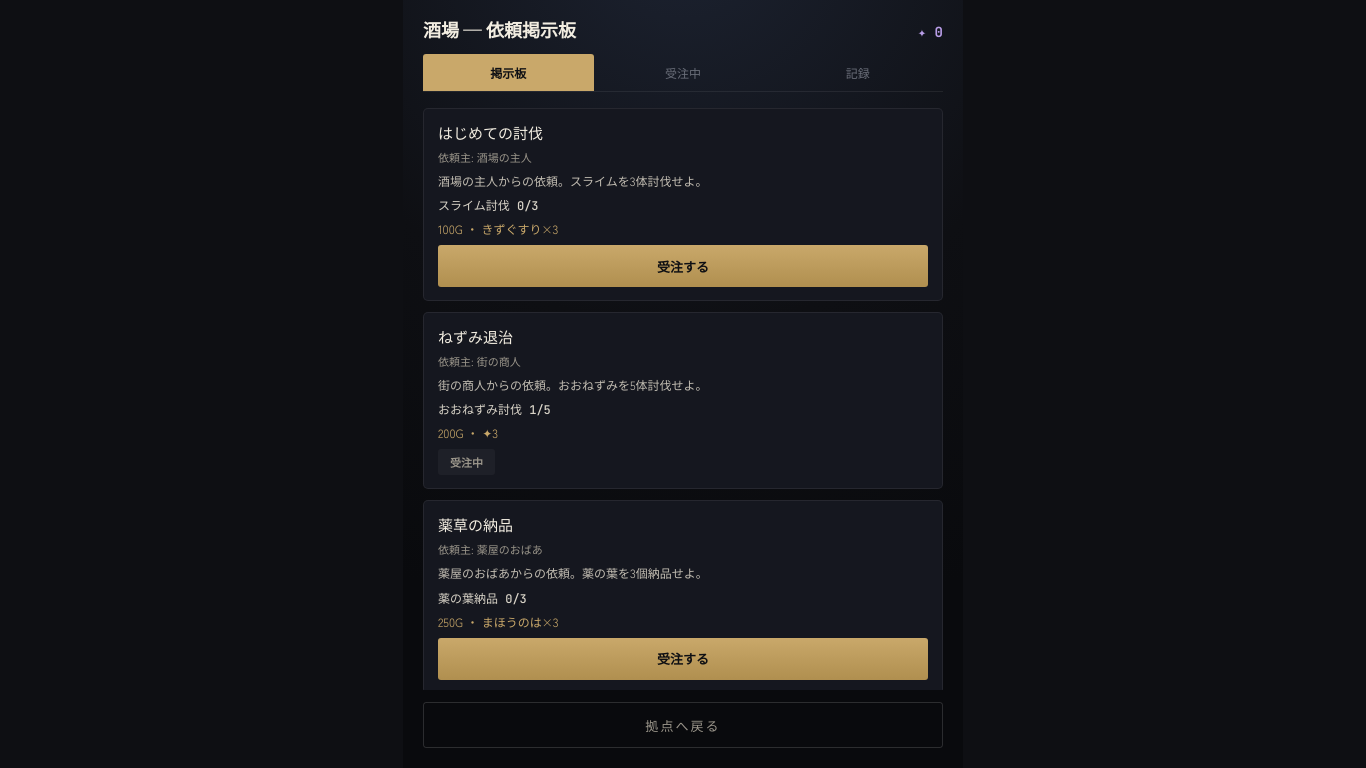
Test: TavernPage › 未達成の依頼は破棄フロー（確認ダイアログ経由）で受注中から消える
Click the button "受注中" at (683, 72), box [598, 54, 768, 91]
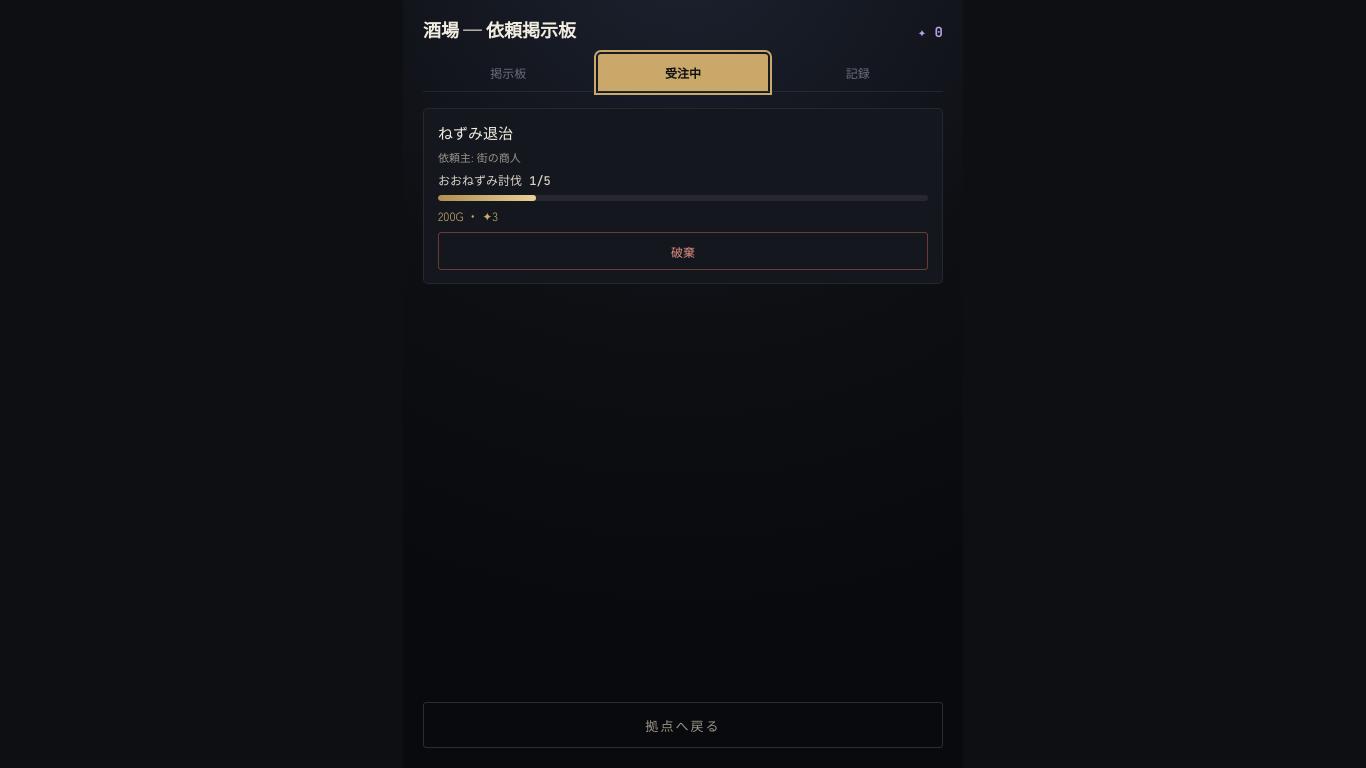
Click the button "破棄" at (683, 251), box [438, 232, 928, 270]
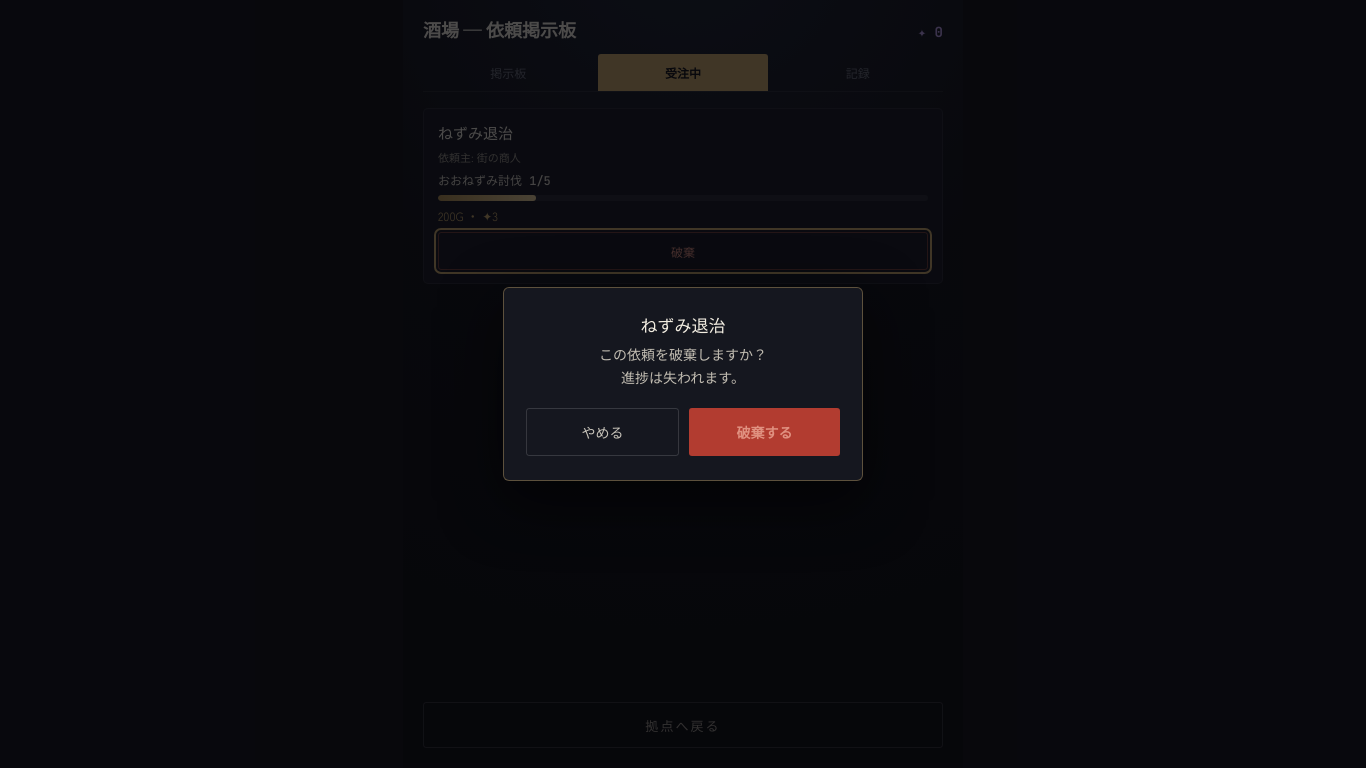
Expected: the dialog named "依頼の破棄確認" is shown, [503, 287, 863, 481]
Click the button "やめる" at (602, 432), box [526, 408, 679, 456]
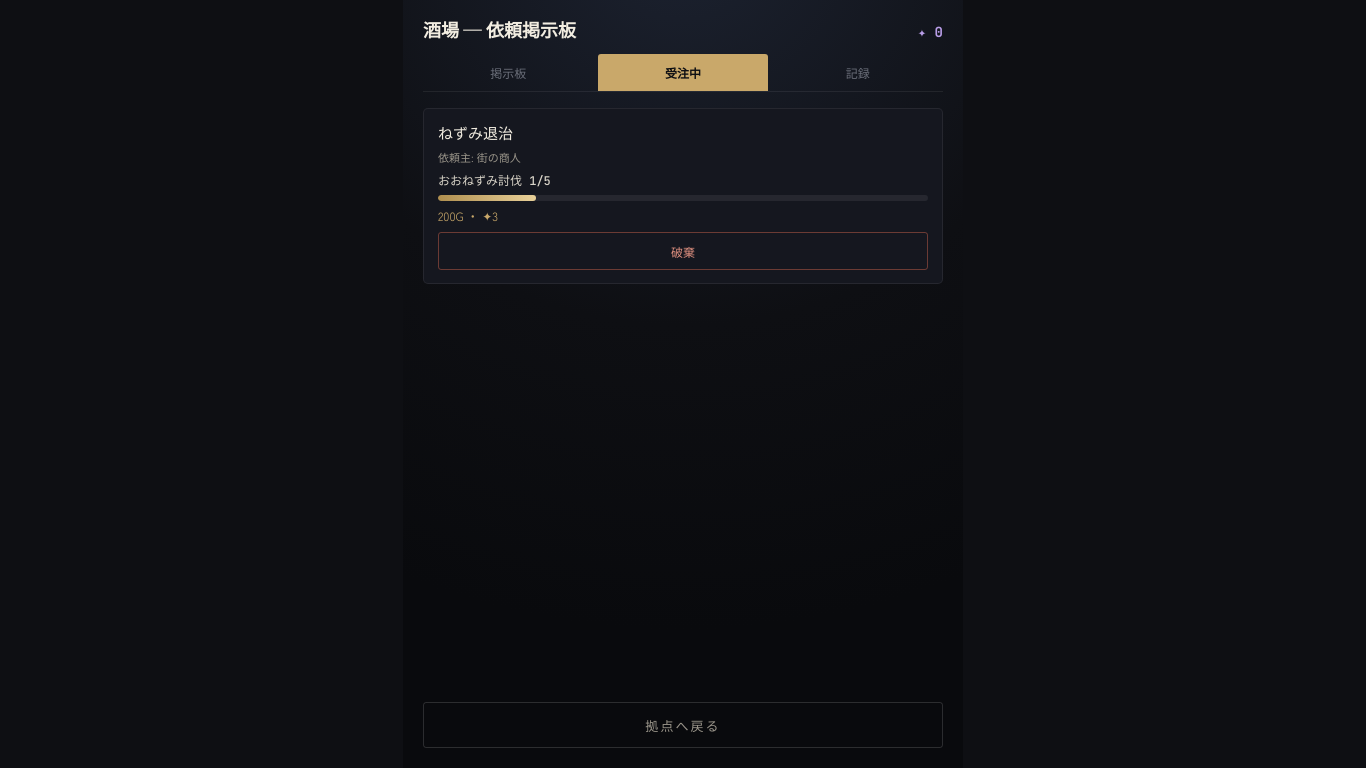
Expected: the button "破棄" is shown
Expected: the dialog "依頼の破棄確認" is gone
再度破棄 → 確認 → 実行
Click the button "破棄" at (683, 251), box [438, 232, 928, 270]
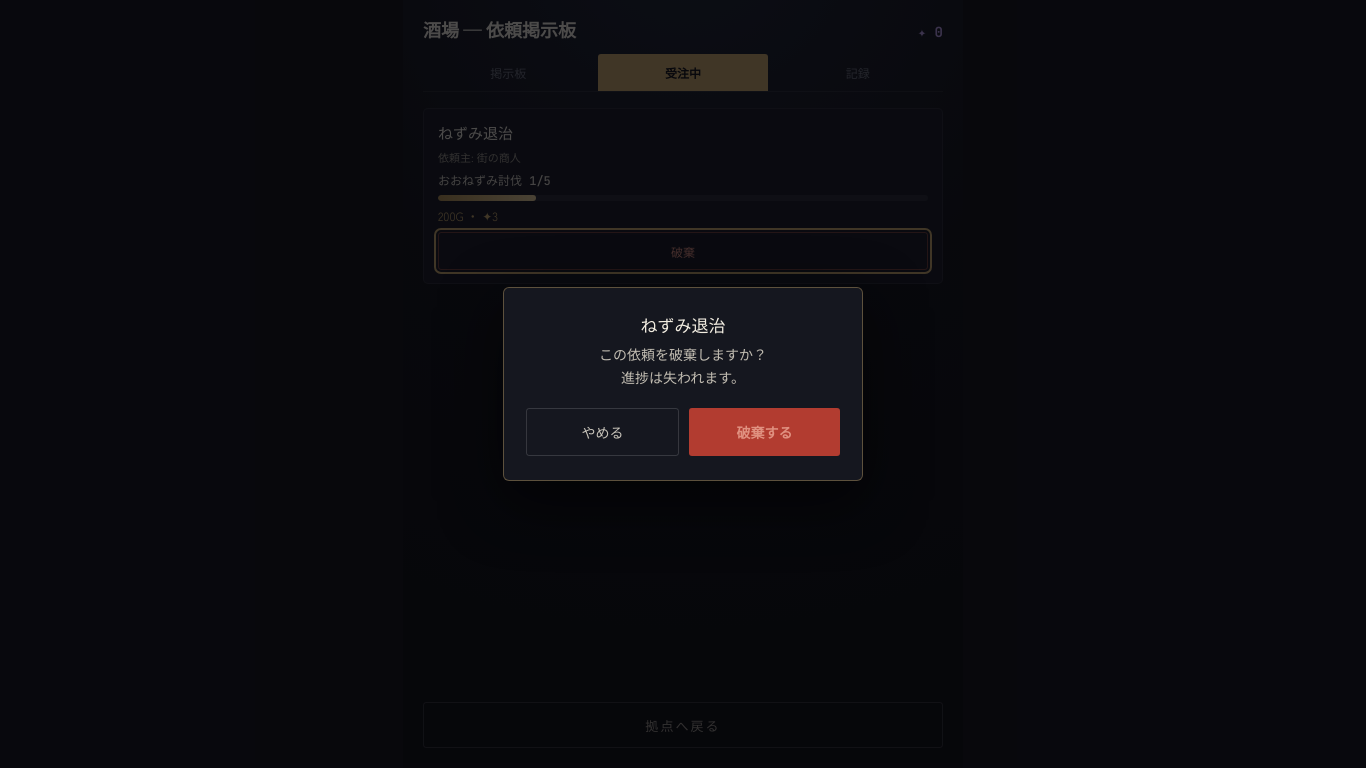
Click the button "破棄する" at (764, 432), box [689, 408, 840, 456]
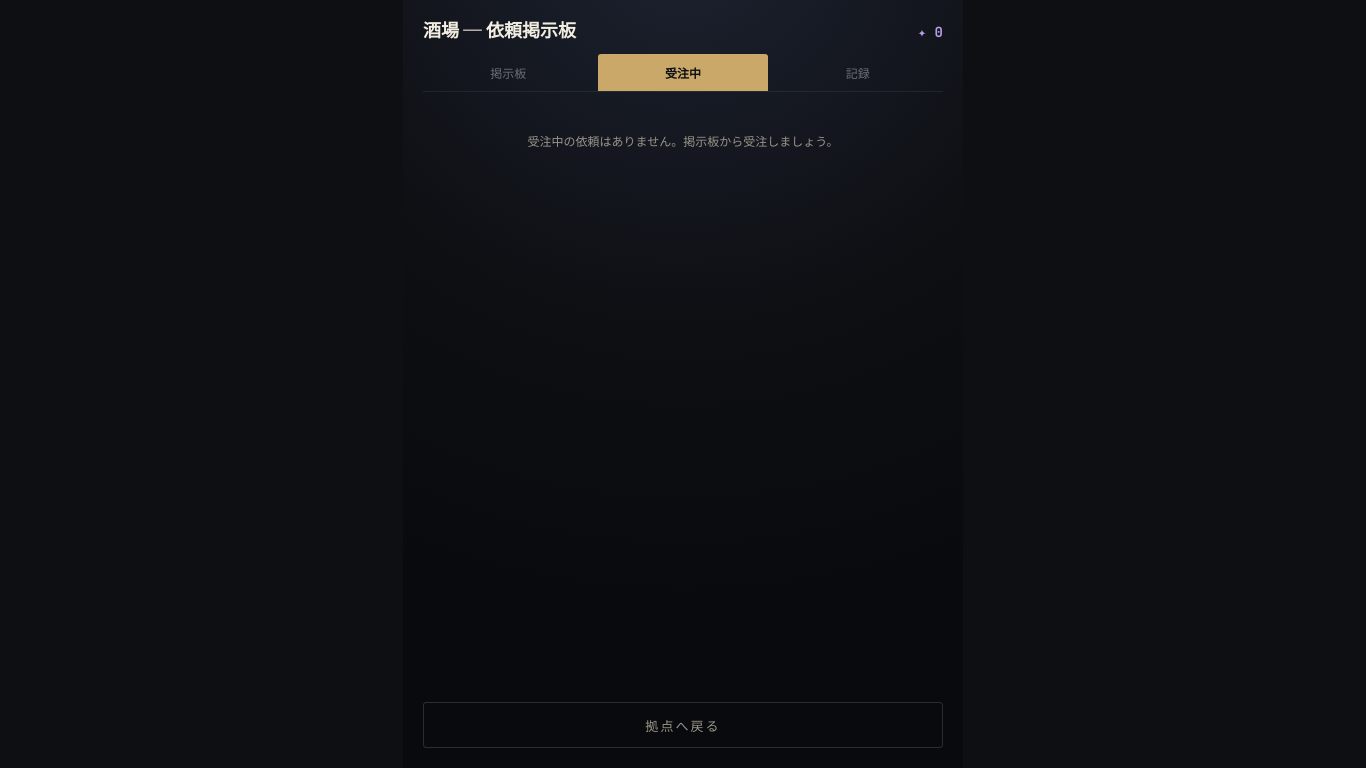
Expected: the text "受注中の依頼はありません。掲示板から受注しましょう。" is shown, [528, 132, 838, 149]
